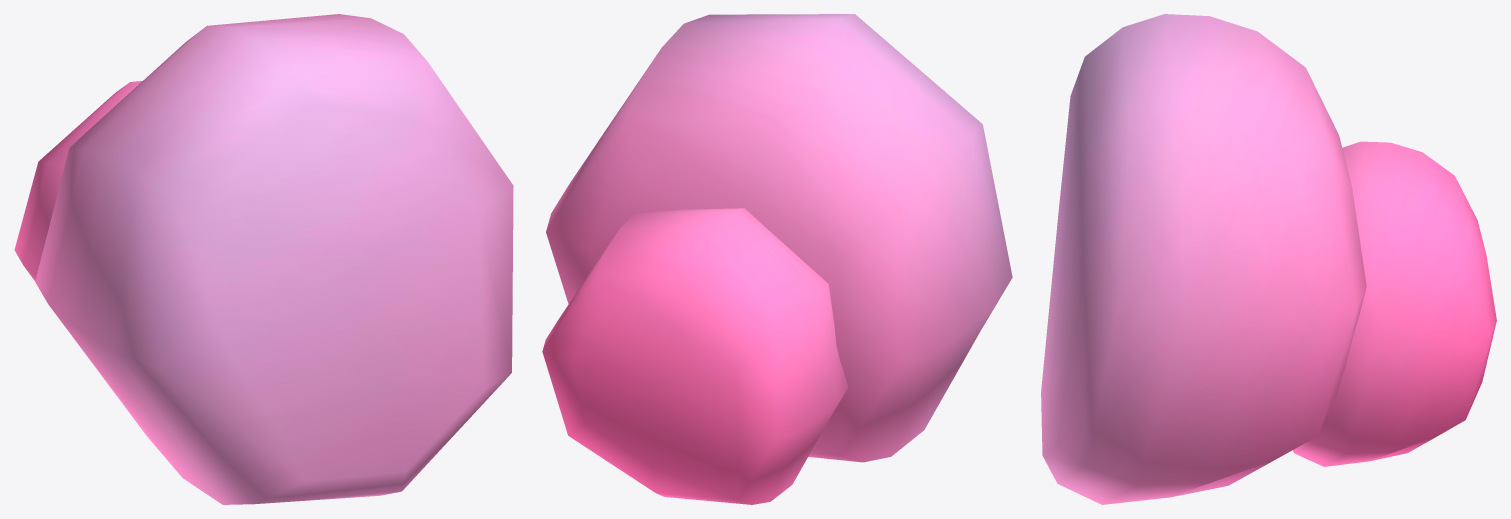
3 renders of one model, left to right at view 1: azimuth 30°, elevation 25°; view 2: azimuth 150°, elevation 25°; view 3: azimuth 270°, elevation 25°, orthographic. The views are drawn at different scales.
Parts seen in each view (by area): view 1: Cube.007; view 2: Cube.007; view 3: Cube.007.
Boxes of the visible parts, box(x1,y1,x2,y2) form: Cube.007: box(14, 14, 513, 504); Cube.007: box(542, 14, 1012, 504); Cube.007: box(1041, 14, 1496, 504).
Size of what is drawn, in the model's own units: 1.45 by 1.62 by 1.5.
Materials: 1 (1 with a texture image).
